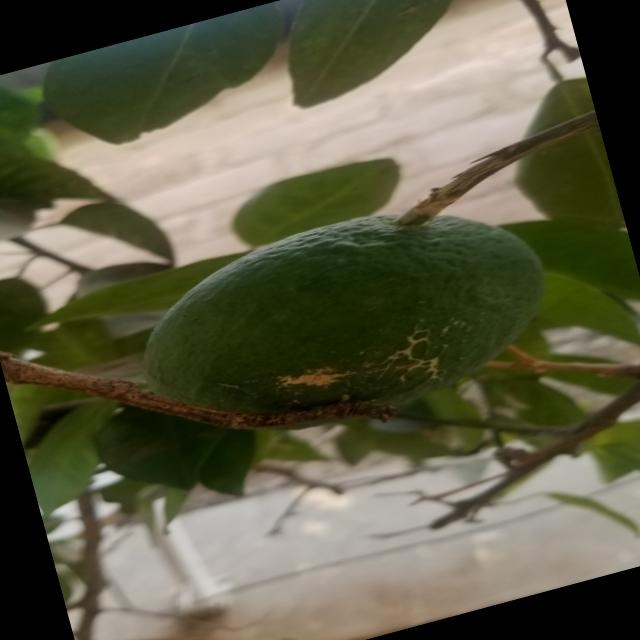agrume: (101, 164, 601, 480)
